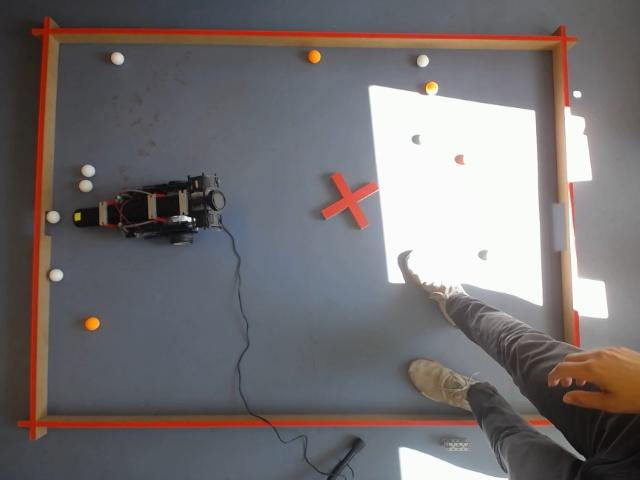orange: (81, 316, 102, 334), (307, 50, 321, 64)
robot: (72, 173, 226, 245)
robot-front: (73, 208, 96, 227)
white: (48, 268, 66, 283), (80, 164, 96, 178), (78, 178, 93, 192), (110, 52, 124, 66), (46, 210, 60, 224), (416, 54, 430, 68)
